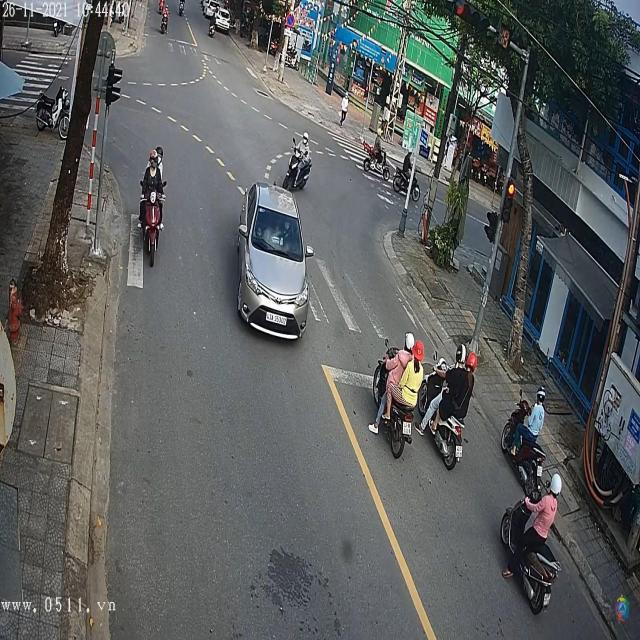car: (237, 184, 311, 341)
motorcycle: (499, 488, 564, 617), (419, 350, 466, 478), (501, 390, 544, 496), (372, 393, 414, 461), (139, 174, 166, 268), (278, 143, 312, 190), (393, 158, 422, 202)
